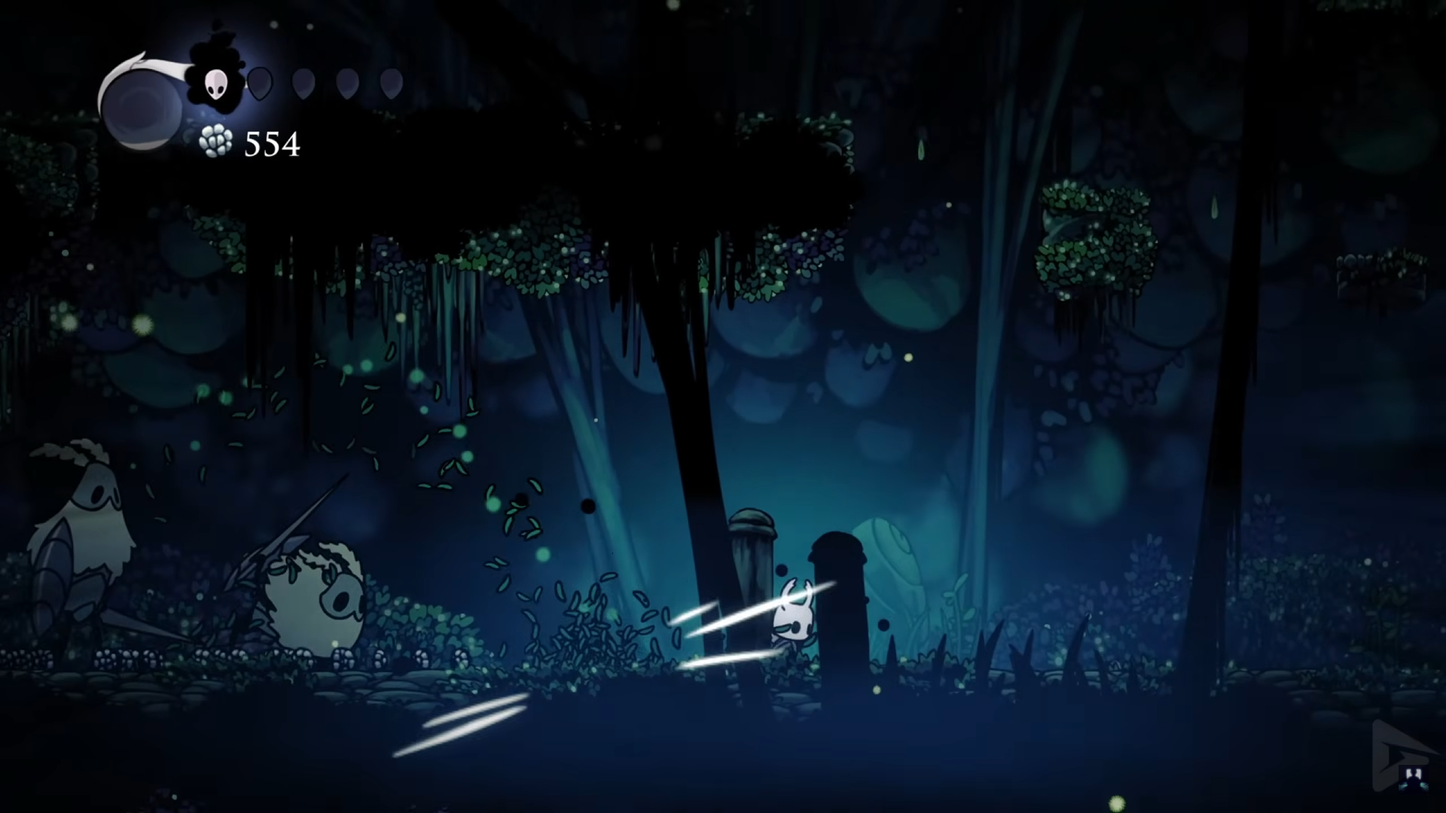HK: (762, 571, 822, 678)
